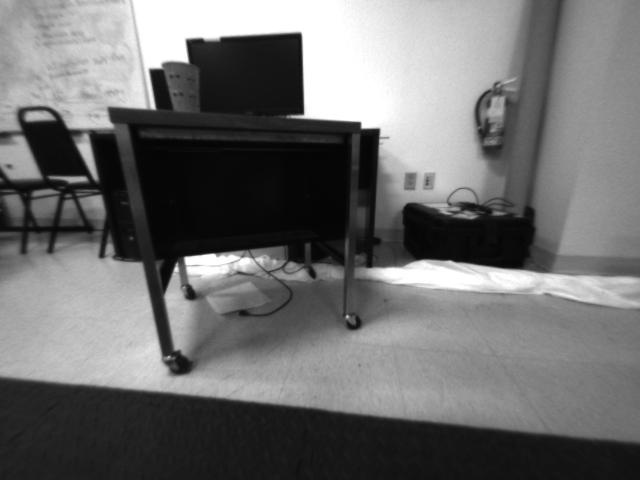coffee_cup: (156, 59, 207, 112)
